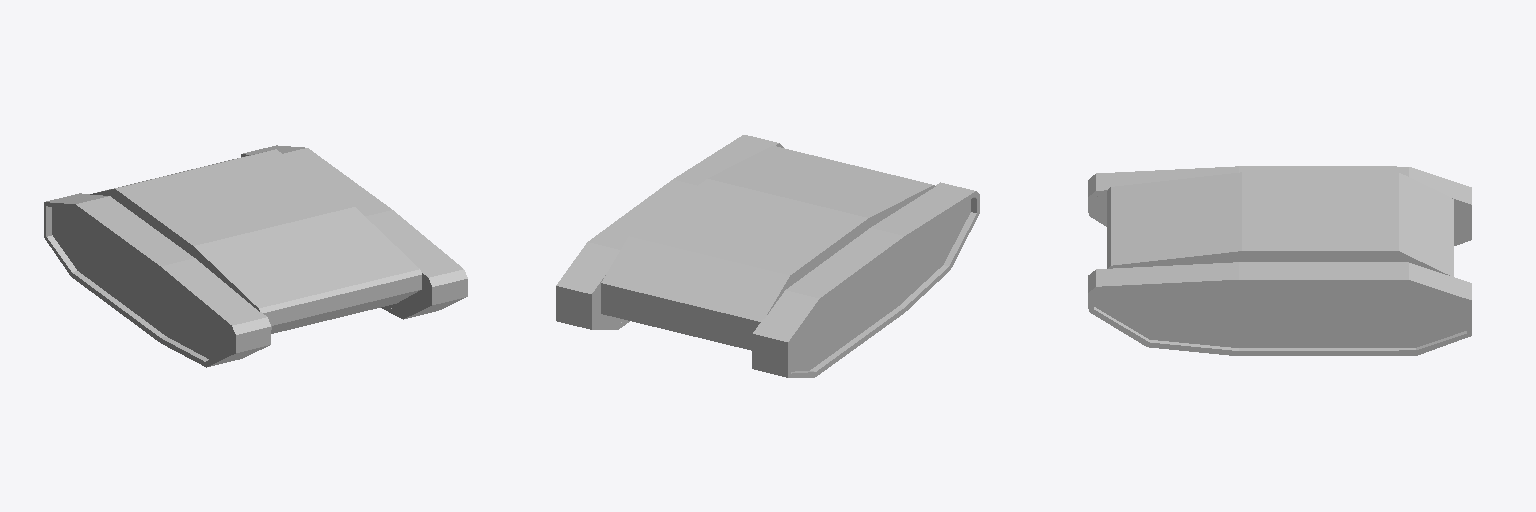
The model's file is tankbody.obj.
The picture shows the model from 3 angles: view 1: azimuth 30°, elevation 25°; view 2: azimuth 150°, elevation 25°; view 3: azimuth 270°, elevation 25°; orthographic projection.
Parts seen in each view (by area): view 1: body, treadR, sideR, treadL, sideL; view 2: body, treadR, sideR, treadL; view 3: body, sideL, treadL, treadR, sideR.
Boxes of the visible parts, <box> form: body: <box>90,149,421,333</box>; treadR: <box>44,193,271,367</box>; sideR: <box>52,207,232,359</box>; treadL: <box>241,145,467,319</box>; sideL: <box>388,278,428,313</box>; body: <box>601,146,935,350</box>; treadR: <box>752,182,979,377</box>; sideR: <box>791,199,970,371</box>; treadL: <box>556,135,783,329</box>; body: <box>1107,172,1453,276</box>; sideL: <box>1094,285,1466,347</box>; treadL: <box>1088,262,1471,355</box>; treadR: <box>1088,166,1471,245</box>; sideR: <box>1094,195,1466,241</box>.
Bounding box in the file's own units: 55.19 × 19.91 × 79.01.